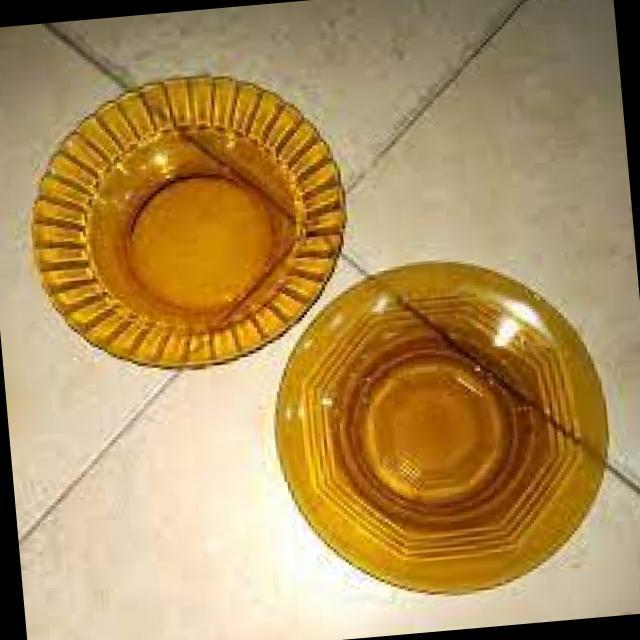plate: (279, 262, 609, 592), (33, 75, 347, 367)
